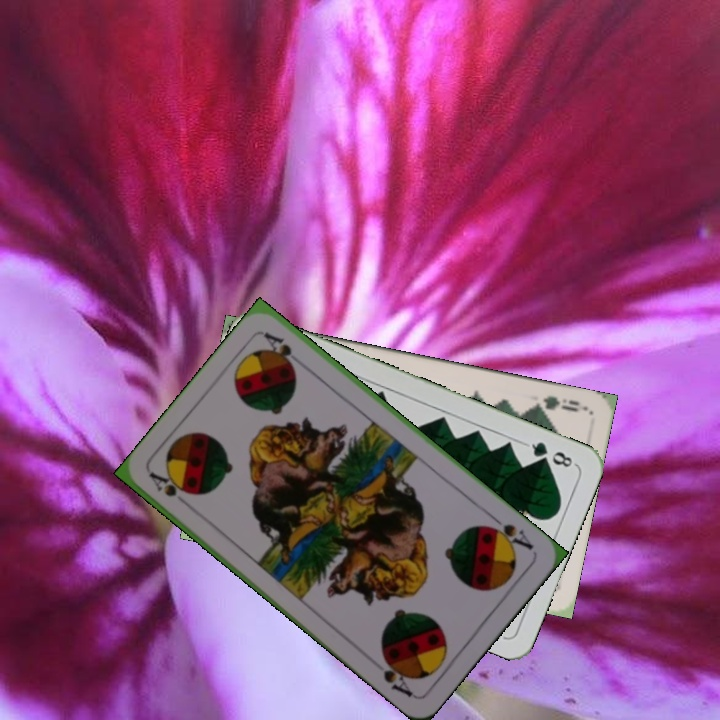G8: (522, 437, 578, 472)
G9: (528, 391, 589, 415)
SA: (481, 511, 536, 553), (145, 467, 194, 512)
